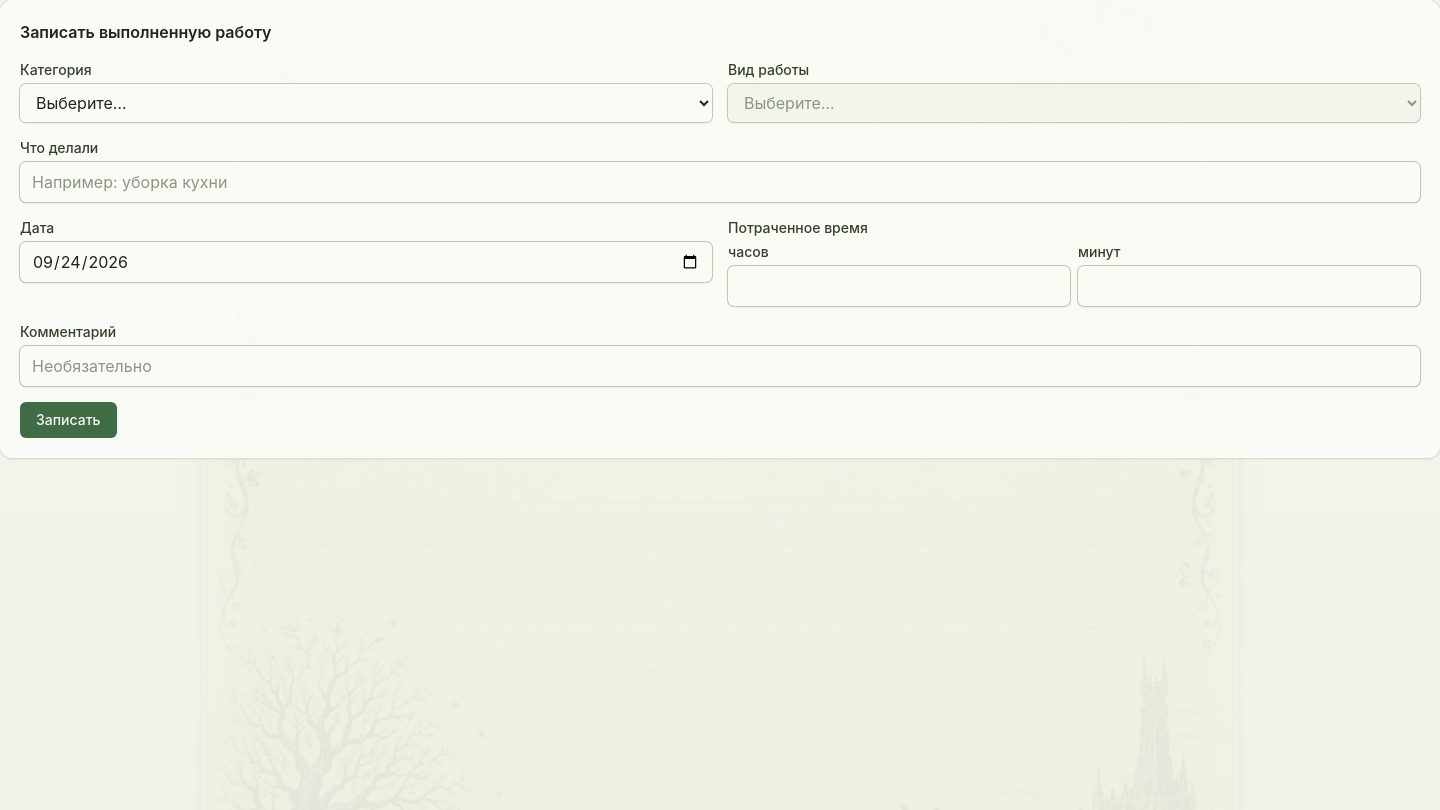
it: ActivityForm › не сохраняет запись с нулевым временем
Step 1. Select "🏠 Домашние обязанности" in the dropdown labelled "Категория" → (366, 103), box [20,84,712,122]
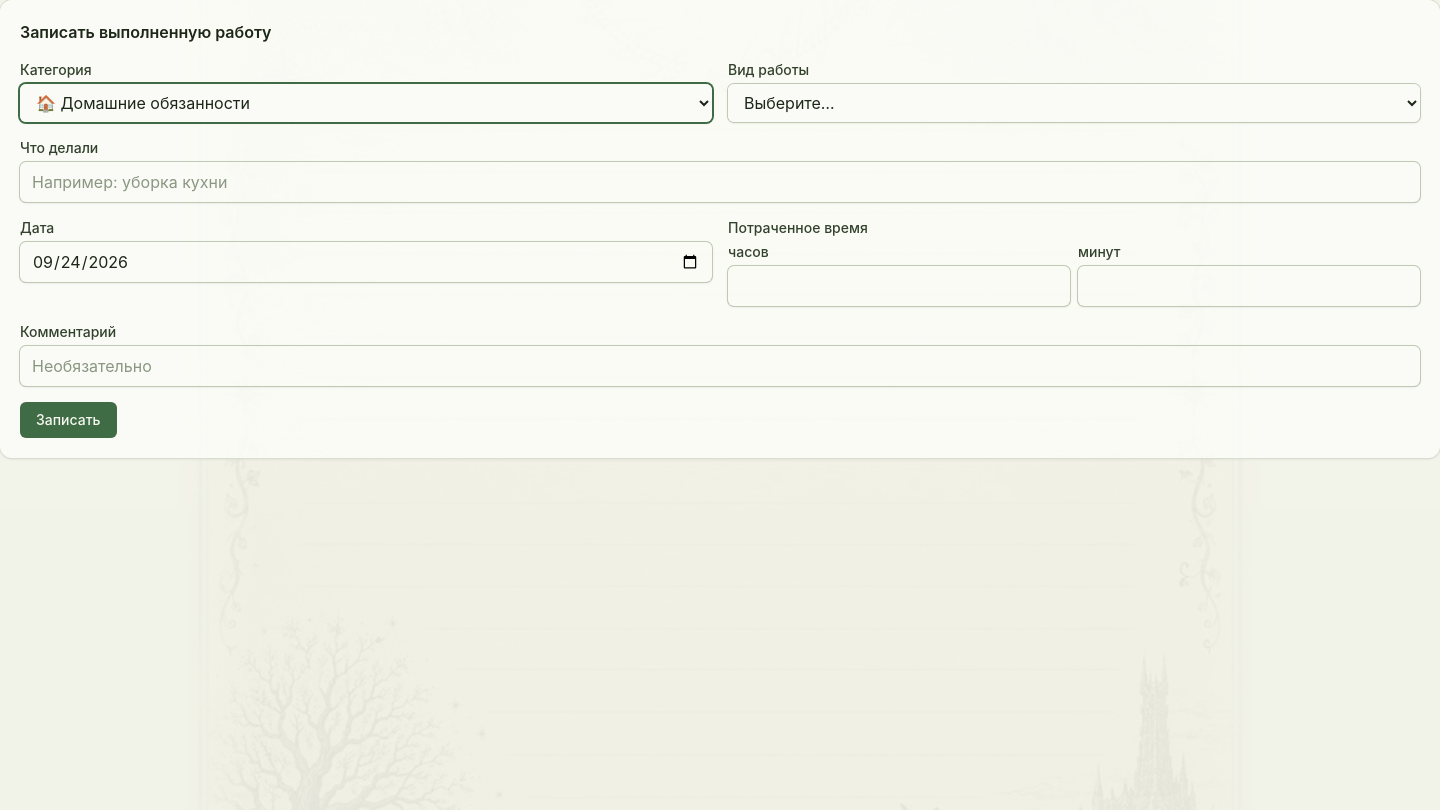
Step 2. Select "Уборка" in the dropdown labelled "Вид работы" → (1074, 103), box [728,84,1420,122]
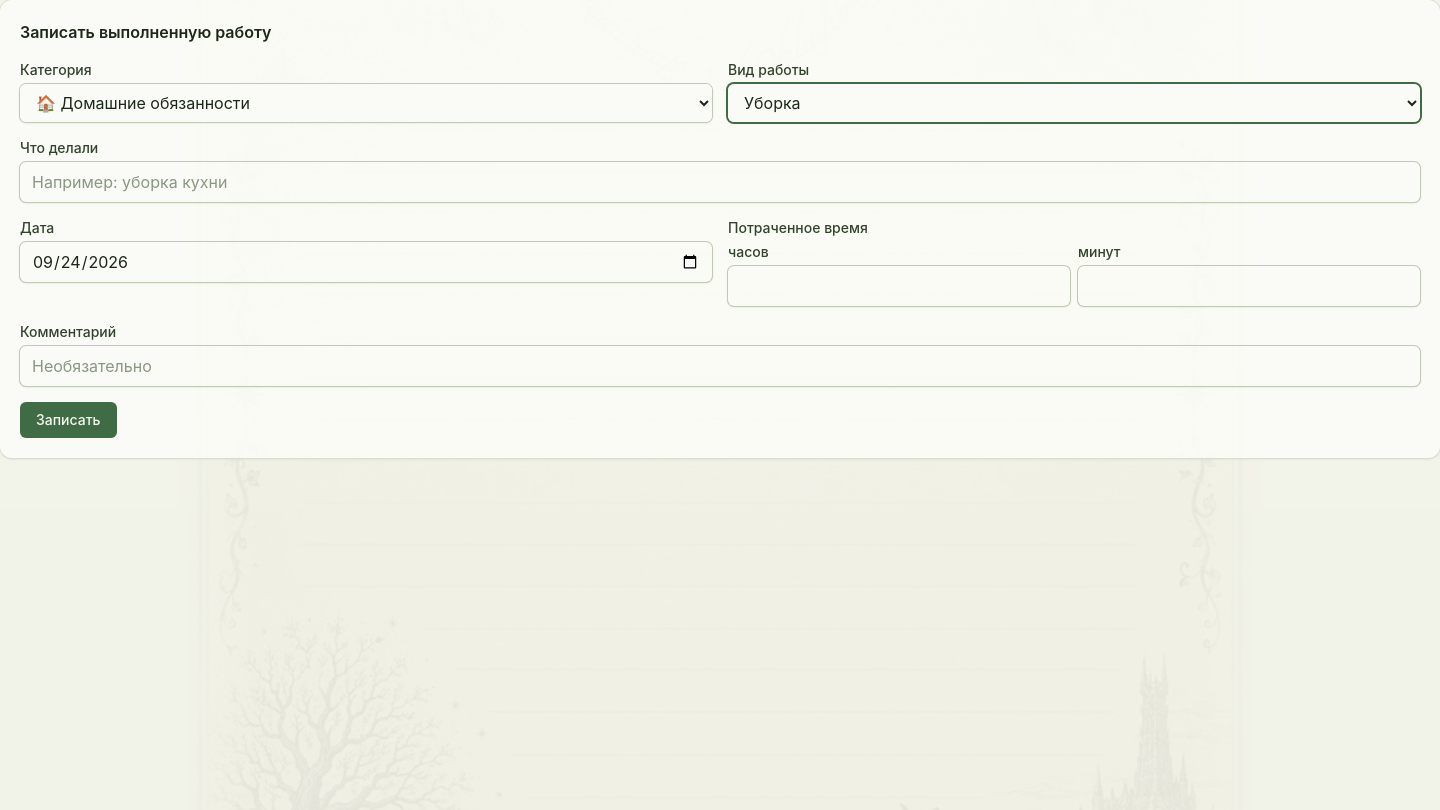
Step 3. Type "Уборка кухни" into the field labelled "Что делали" → (720, 182), box [20,162,1420,202]
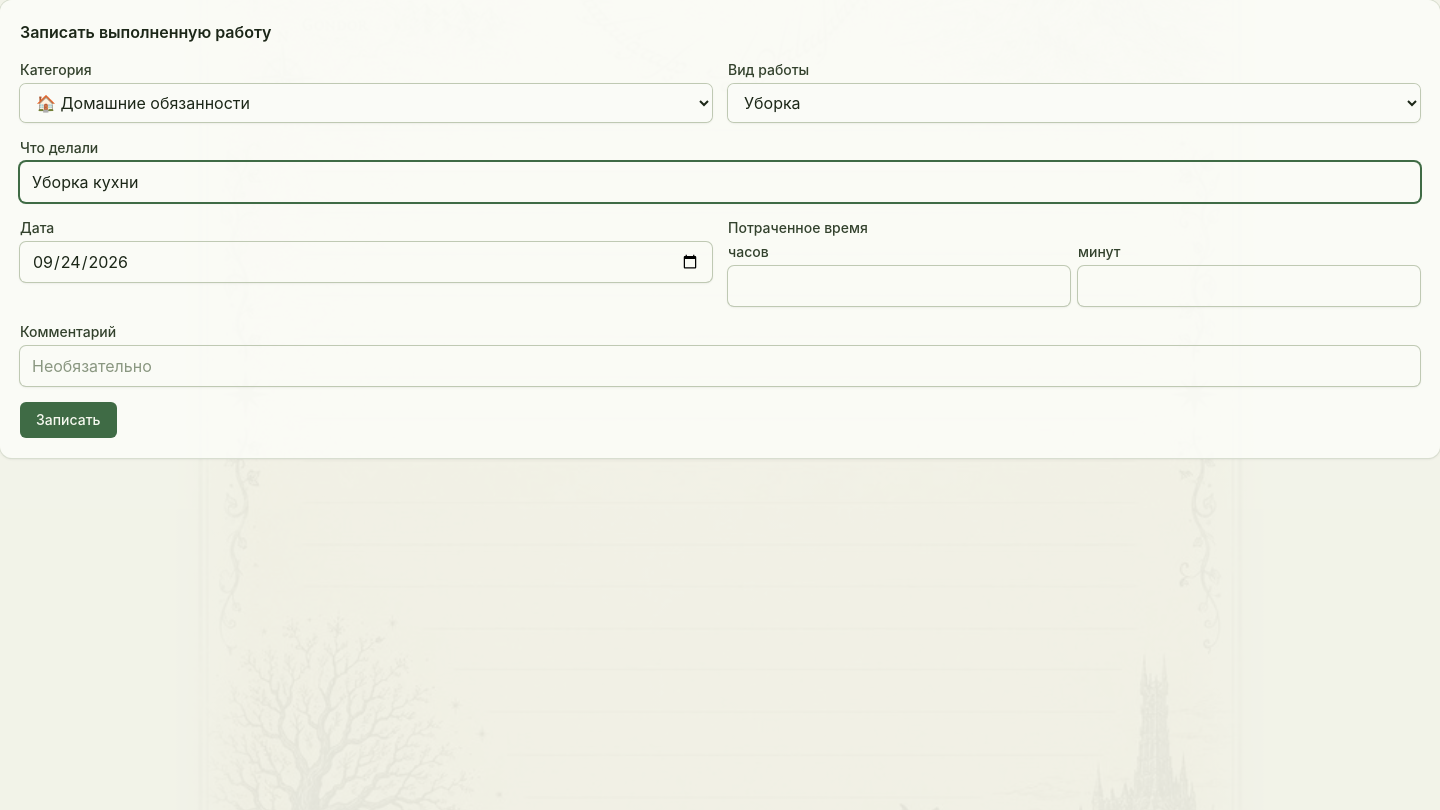
Step 4. Click the button "Записать" → (68, 420), box [20,402,116,438]
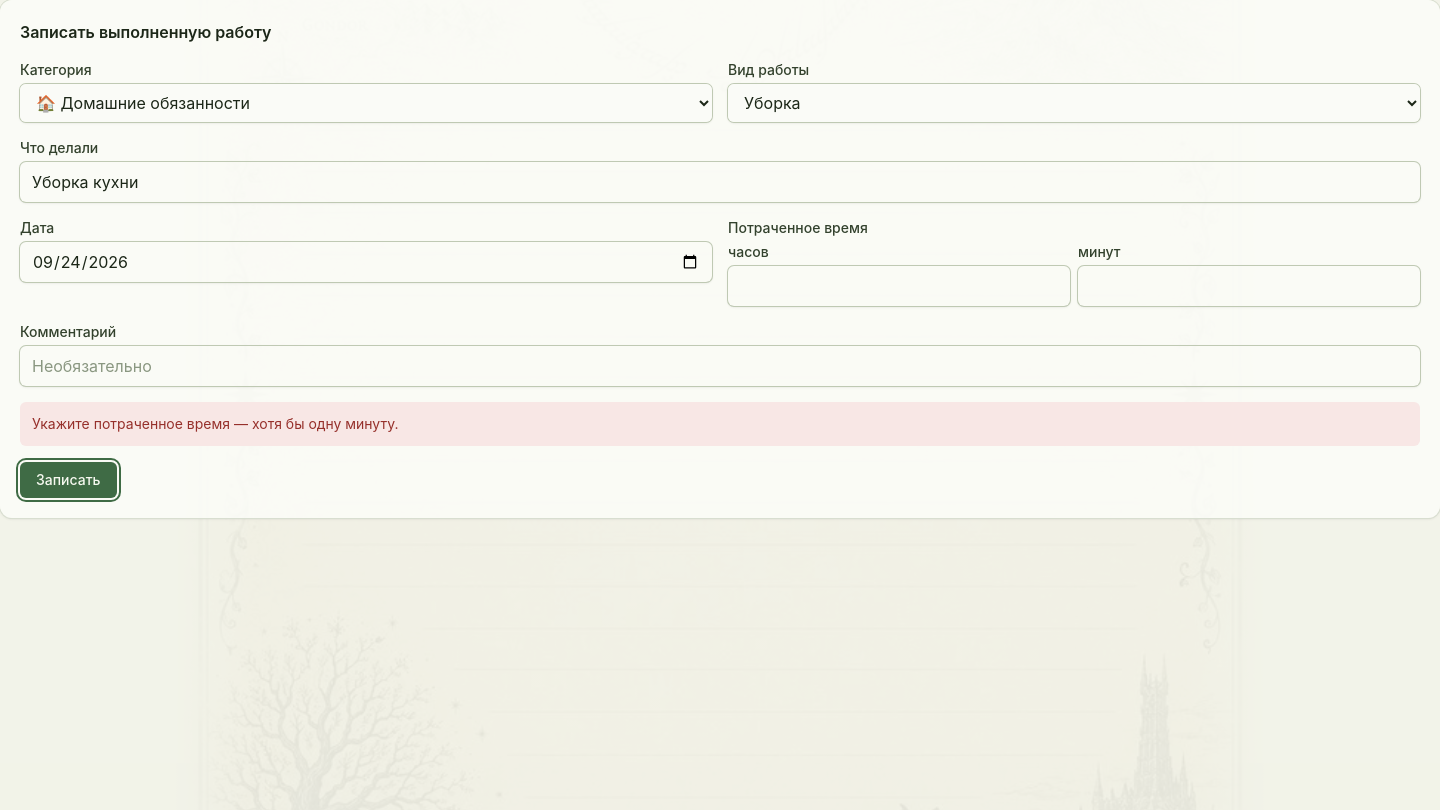
Result: the message shows "Укажите потраченное время" at [32,415,398,432]
